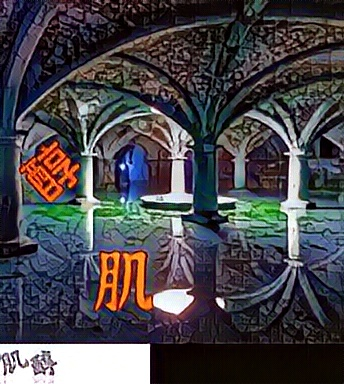B4BC: (17, 138, 81, 204)
BCA1: (93, 246, 157, 312)
